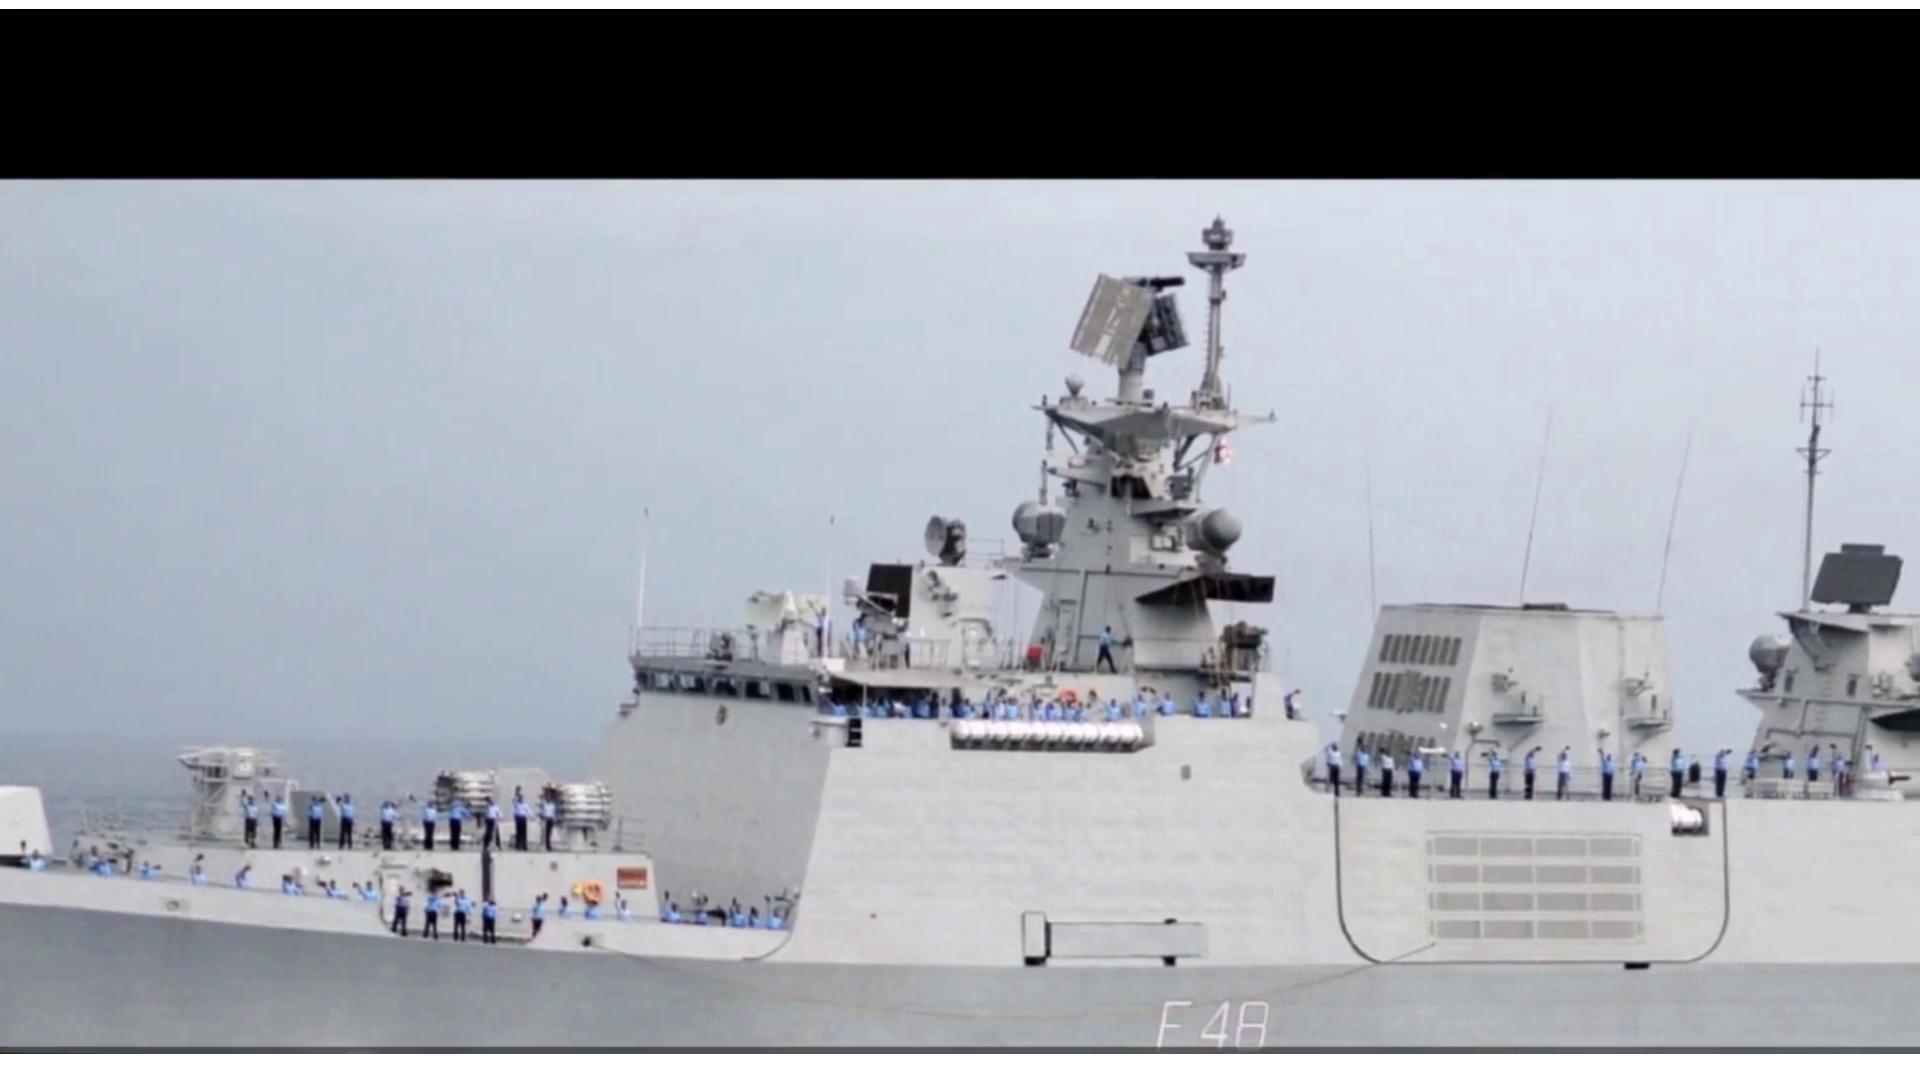OCR: (1126, 987, 1284, 1049)
